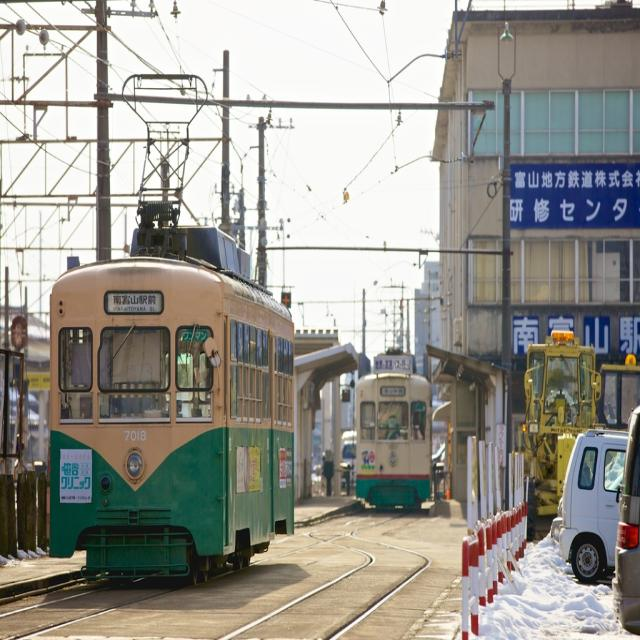Passenger Car: (554, 428, 618, 586), (608, 403, 638, 629)
